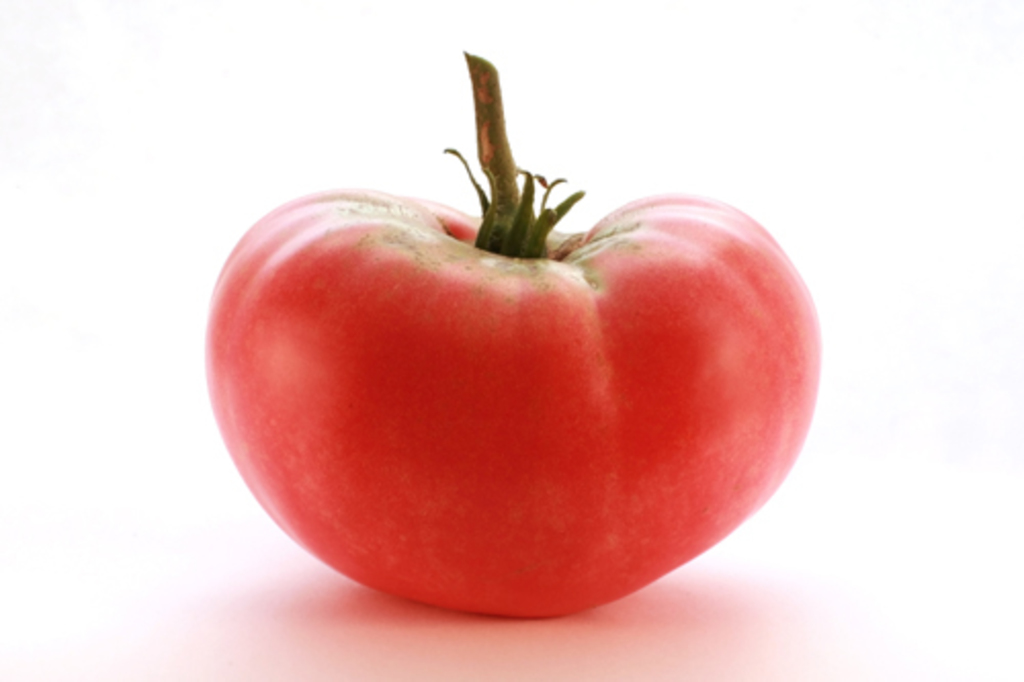Tomato: (202, 47, 817, 614)
